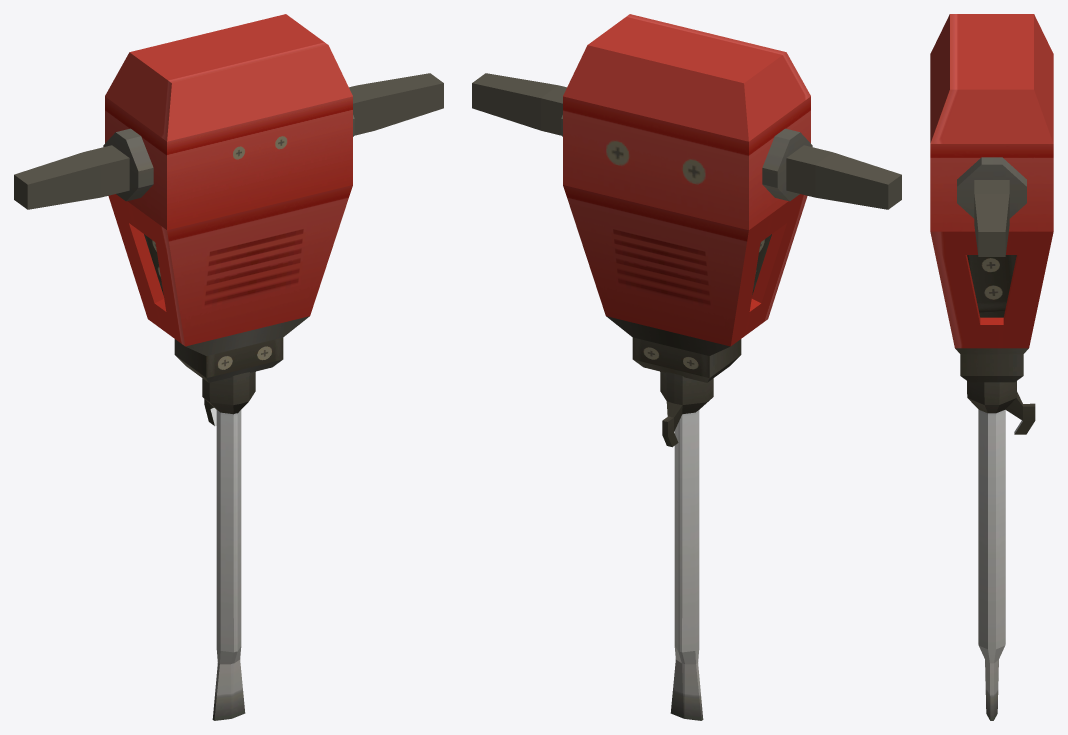
The model's file is Improved_JackHammer.fbx.
3 renders of one model, left to right at view 1: azimuth 30°, elevation 25°; view 2: azimuth 150°, elevation 25°; view 3: azimuth 270°, elevation 25°, orthographic.
Visible parts, largest first — view 1: JackHammer, Hammer; view 2: JackHammer, Hammer; view 3: JackHammer, Hammer.
Boxes of the visible parts, x1=… form: JackHammer: x1=14, y1=14, x2=443, y2=382; Hammer: x1=202, y1=371, x2=255, y2=720; JackHammer: x1=472, y1=14, x2=901, y2=382; Hammer: x1=660, y1=371, x2=713, y2=720; JackHammer: x1=930, y1=14, x2=1053, y2=382; Hammer: x1=967, y1=381, x2=1035, y2=720.
Bounding box in the file's own units: 1.17 × 1.79 × 0.3024.
2 materials, 2 textured.
